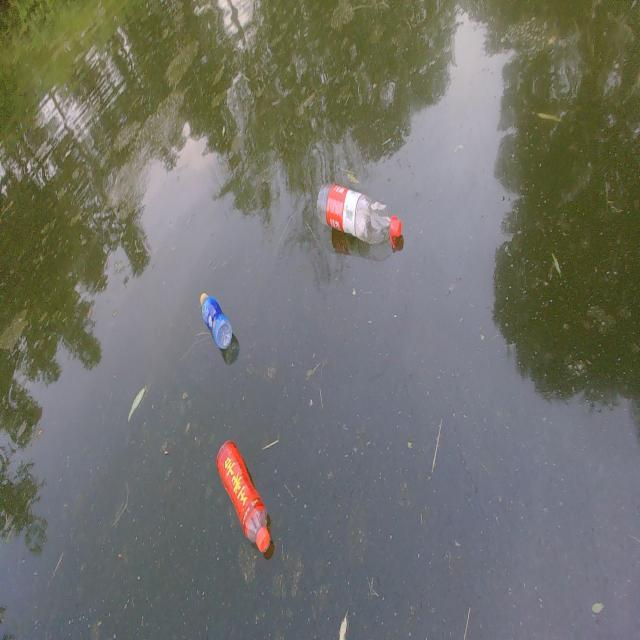bottle: (200, 407, 296, 576), (302, 150, 424, 276), (190, 280, 245, 360)
